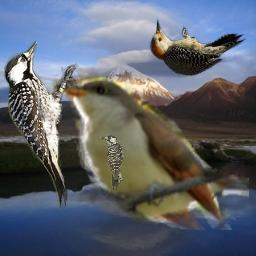Cuckoo: (46, 63, 249, 230)
Woodpecker: (4, 41, 82, 209), (142, 16, 250, 77), (100, 135, 128, 192)
